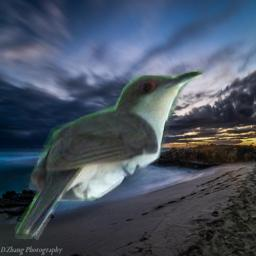Cuckoo: (15, 69, 207, 241)
